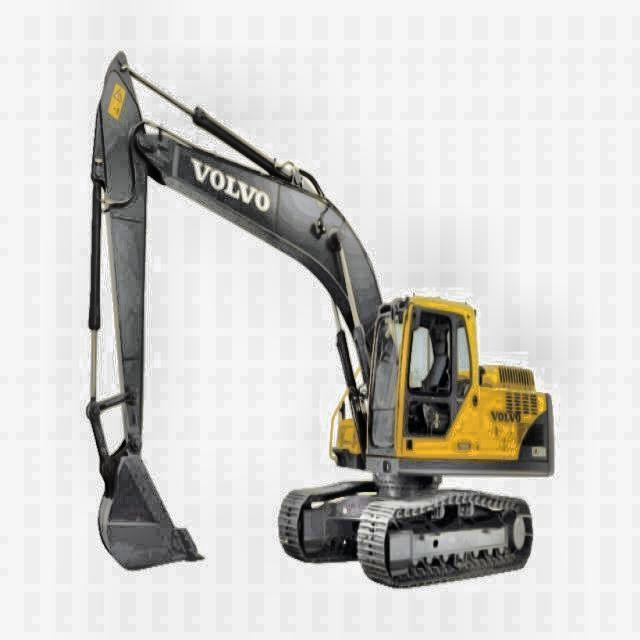excavator: (82, 51, 556, 588)
